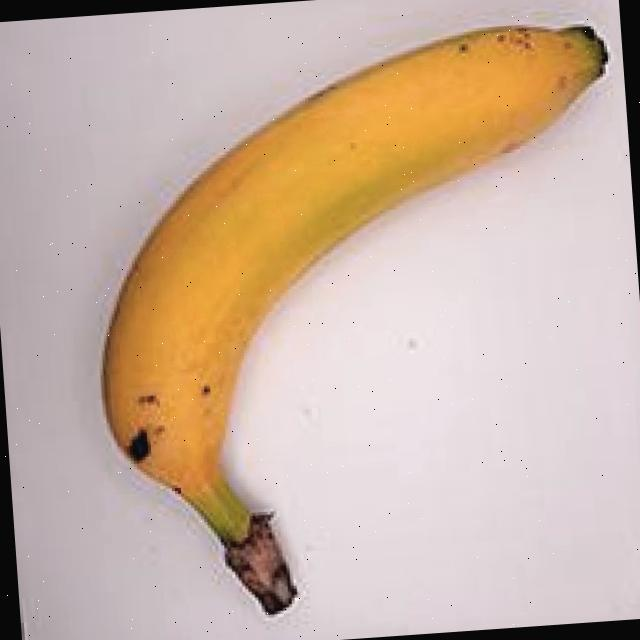Ripe: (53, 0, 640, 626)
